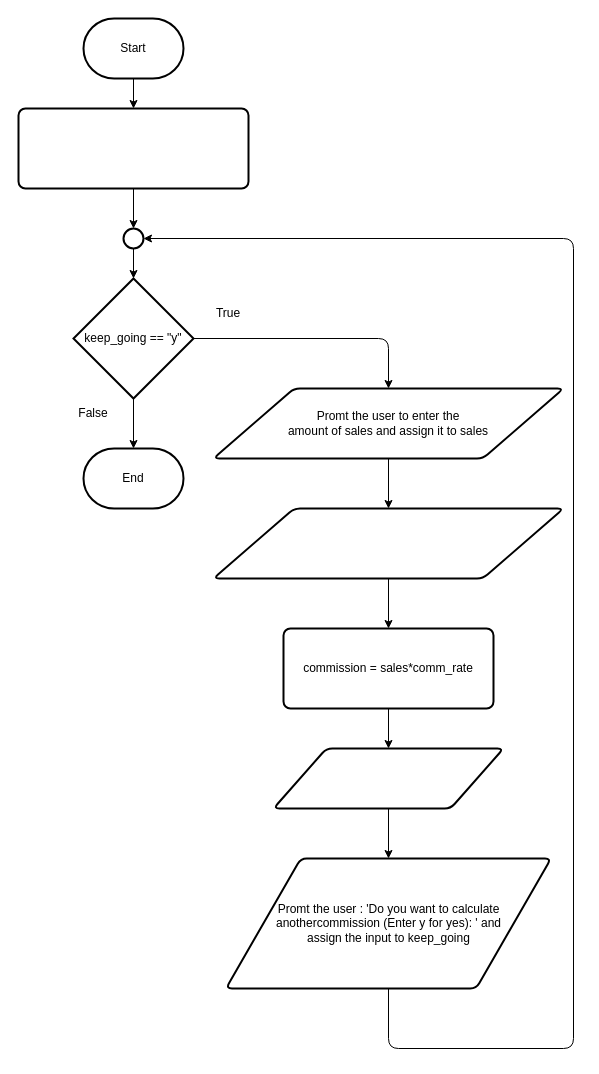
Image size: 599x1074. Some labels were removed from this diagram. Here are the shapes that lost their labels. From the top down, the box of each, then its label:
(17, 107, 249, 189): Assign "y" to keep_going
(212, 507, 564, 579): Promt the user to enter the commission rate and assign it to comm_rate
(272, 747, 504, 809): Display the commission
